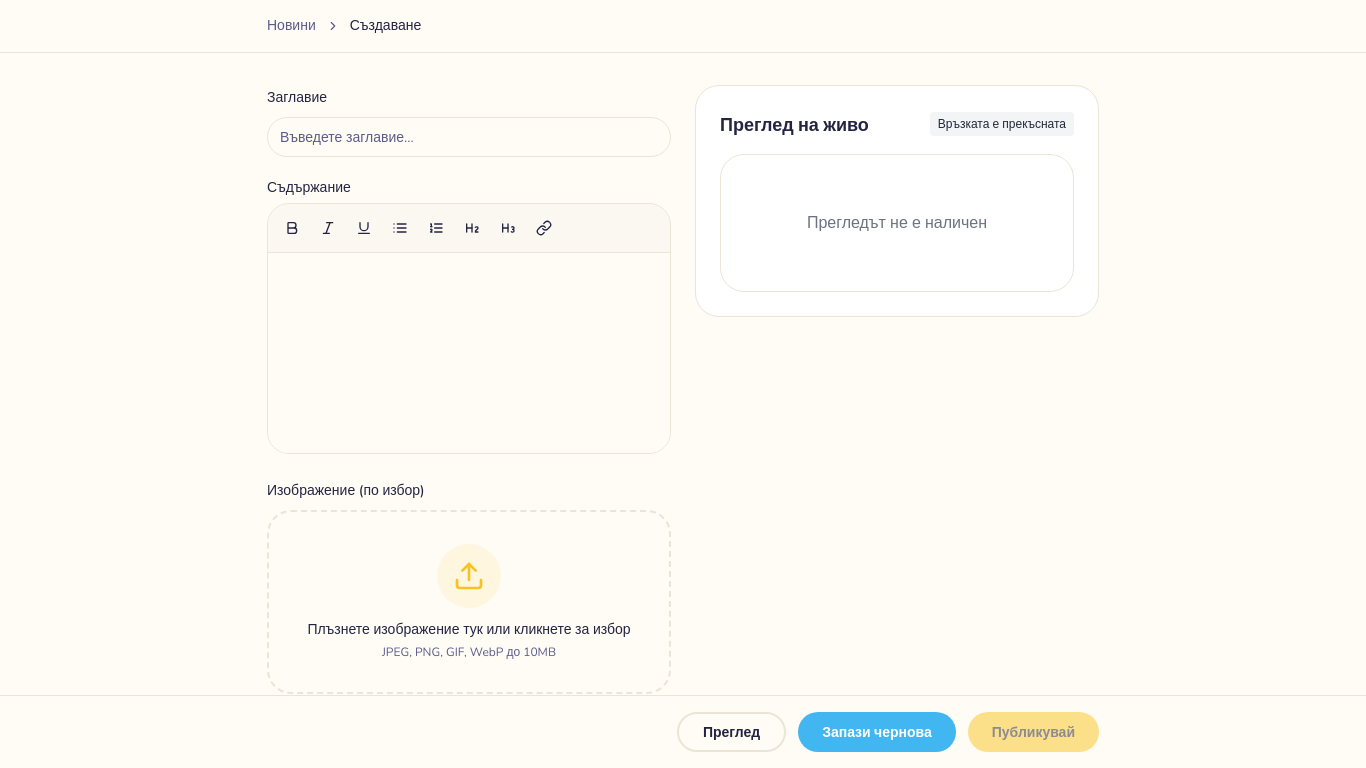
Test case: NewsCreate › Preview Modal Integration › clicking preview button opens PreviewModal
Click the button "Преглед" at (732, 732), box 677,712 -> 786,752
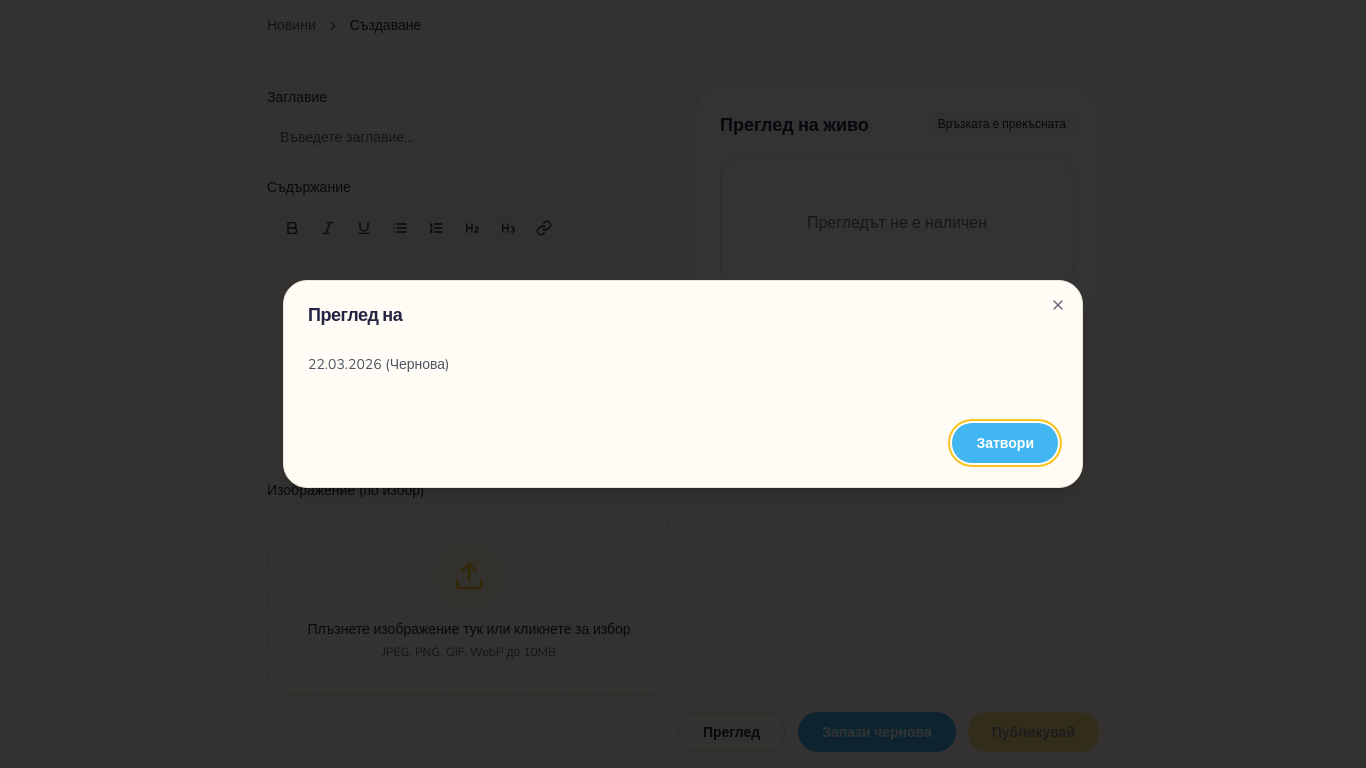
Now the dialog is shown, box 283,280 -> 1083,488
